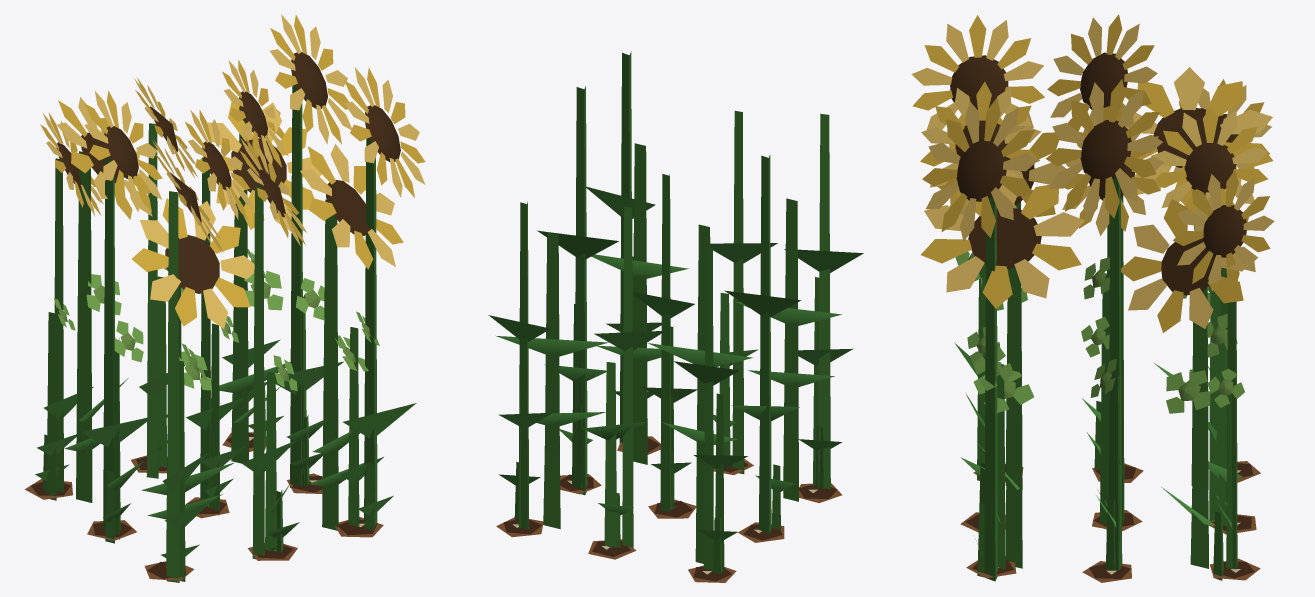
File: sunflower.glb
The picture shows the model from 3 angles, left to right: view 1: azimuth 30°, elevation 25°; view 2: azimuth 150°, elevation 25°; view 3: azimuth 270°, elevation 25°; orthographic projection. The views are drawn at different scales.
Visible parts, largest first — view 1: crop-sunflower-3, crop-sunflower-3-far, crop-sunflower-2, crop-sunflower-2-far, crop-sunflower-0, crop-sunflower-1; view 2: crop-sunflower-3, crop-sunflower-3-far, crop-sunflower-2, crop-sunflower-0, crop-sunflower-1, crop-sunflower-2-far; view 3: crop-sunflower-3, crop-sunflower-3-far, crop-sunflower-2, crop-sunflower-2-far, crop-sunflower-0, crop-sunflower-1.
Boxes of the visible parts, x1=… form: crop-sunflower-3: x1=40, y1=14, x2=425, y2=582; crop-sunflower-3-far: x1=57, y1=97, x2=403, y2=560; crop-sunflower-2: x1=37, y1=249, x2=383, y2=581; crop-sunflower-2-far: x1=64, y1=270, x2=368, y2=519; crop-sunflower-0: x1=25, y1=432, x2=383, y2=580; crop-sunflower-1: x1=35, y1=383, x2=393, y2=560; crop-sunflower-3: x1=488, y1=51, x2=863, y2=570; crop-sunflower-3-far: x1=496, y1=143, x2=842, y2=563; crop-sunflower-2: x1=498, y1=256, x2=853, y2=571; crop-sunflower-0: x1=496, y1=436, x2=842, y2=582; crop-sunflower-1: x1=498, y1=391, x2=842, y2=574; crop-sunflower-2-far: x1=536, y1=346, x2=834, y2=529; crop-sunflower-3: x1=911, y1=14, x2=1274, y2=581; crop-sunflower-3-far: x1=921, y1=67, x2=1273, y2=568; crop-sunflower-2: x1=955, y1=251, x2=1244, y2=570; crop-sunflower-2-far: x1=973, y1=269, x2=1215, y2=568; crop-sunflower-0: x1=960, y1=461, x2=1260, y2=582; crop-sunflower-1: x1=975, y1=401, x2=1226, y2=580.
Bounding box in the file's own units: 1.71 × 2.51 × 1.85.
